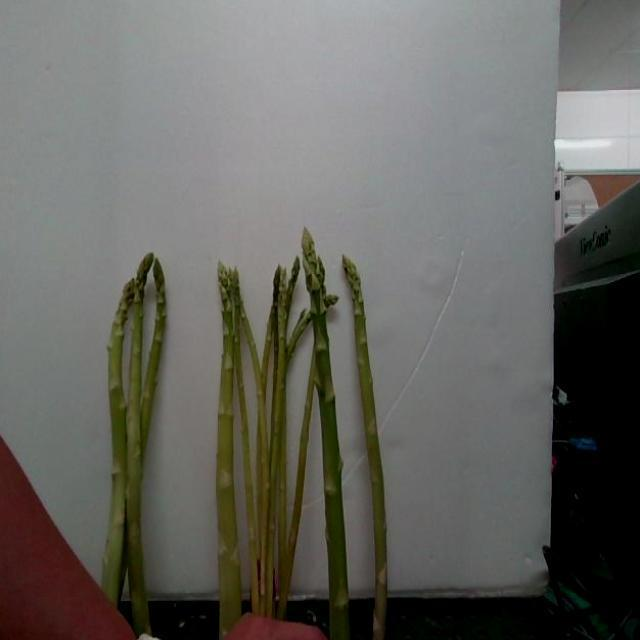aspargus: (298, 229, 350, 640), (342, 256, 389, 640)
